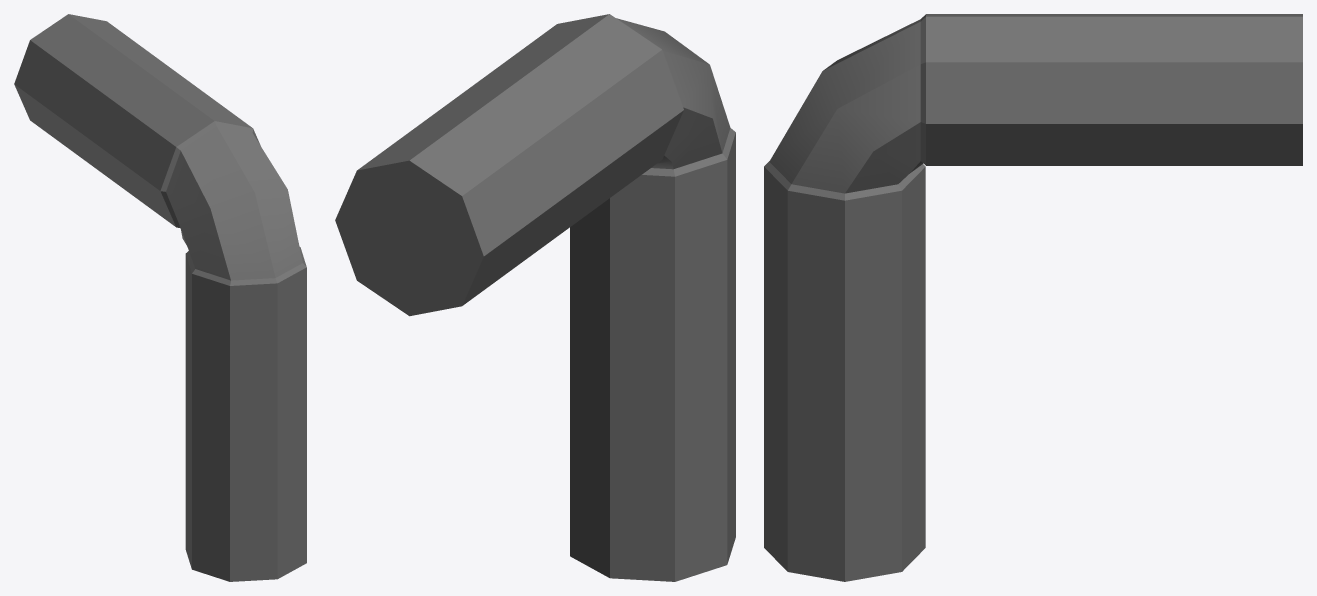
The picture shows the model from 3 angles, left to right: view 1: azimuth 30°, elevation 25°; view 2: azimuth 150°, elevation 25°; view 3: azimuth 270°, elevation 25°; orthographic projection. The views are drawn at different scales.
Visible parts, largest first — view 1: SM_B_Part24; view 2: SM_B_Part24; view 3: SM_B_Part24.
Boxes of the visible parts, x1,y1,x2,y2 form: SM_B_Part24: (14, 14, 306, 581); SM_B_Part24: (335, 14, 735, 581); SM_B_Part24: (764, 14, 1302, 581).
Size of the model in its own units: 59.51 by 197 by 214.
